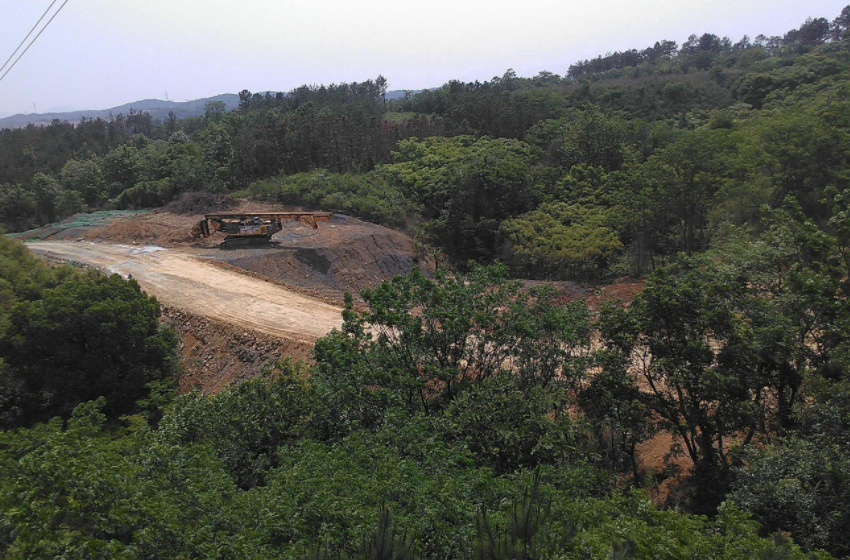绿膜: (2, 209, 149, 237), (16, 235, 45, 243)
